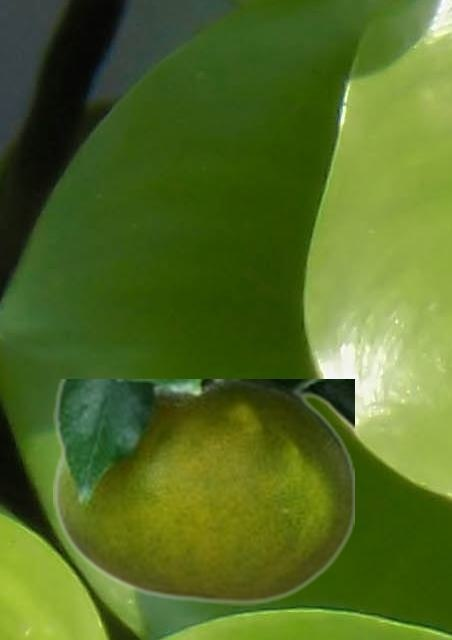dalandan: (53, 379, 353, 604)
